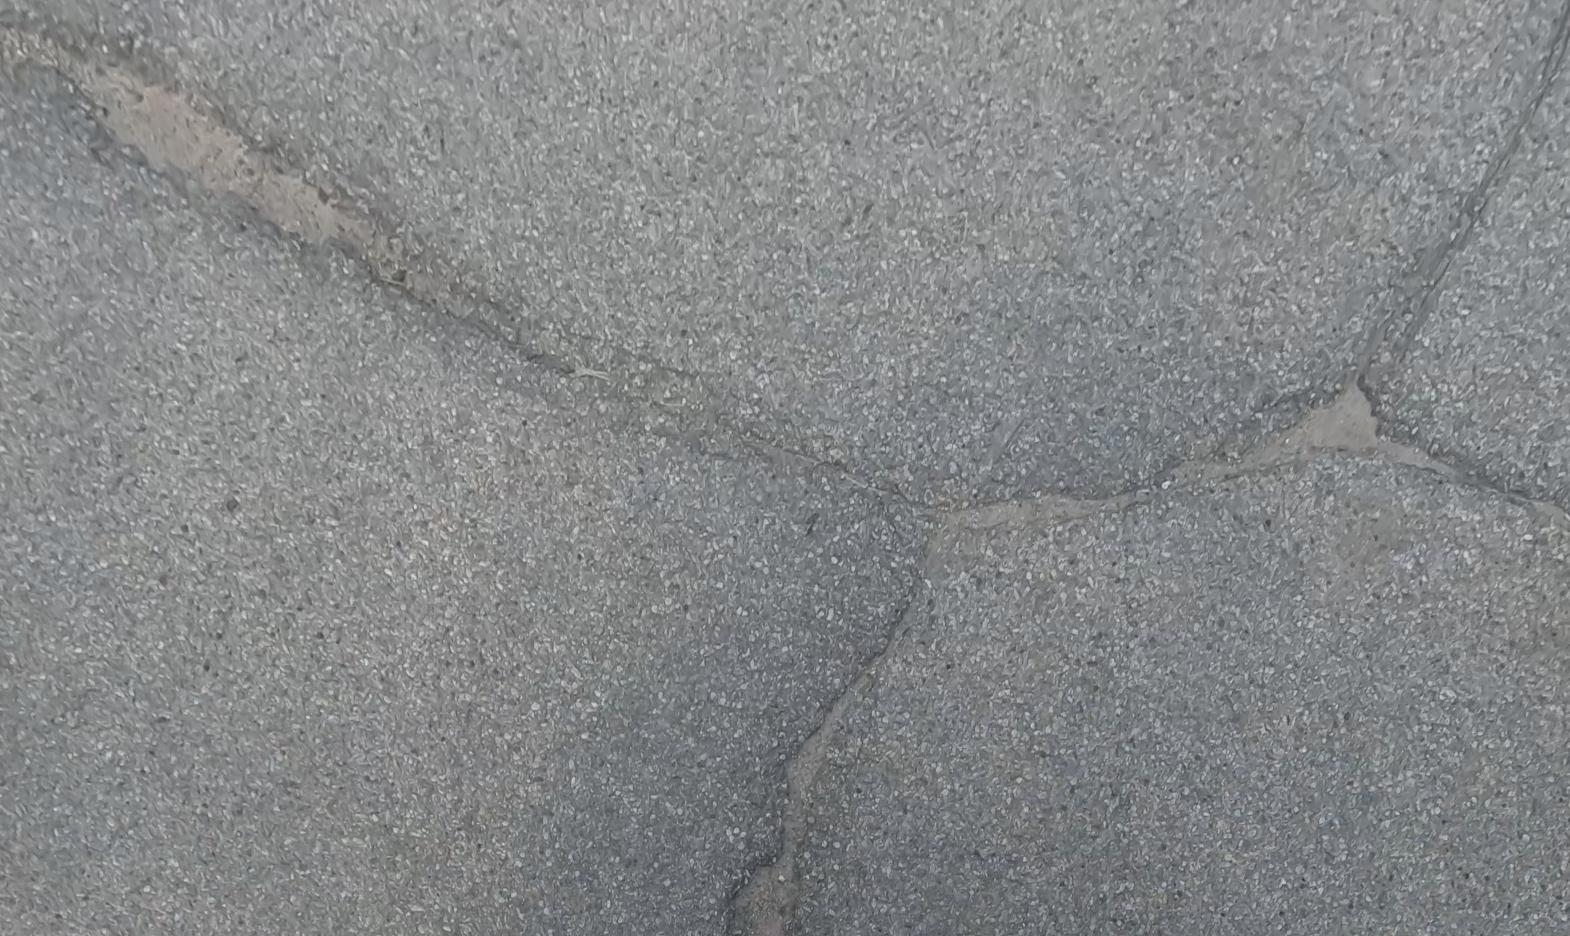pothole: (722, 718, 829, 934), (1232, 377, 1384, 477)
